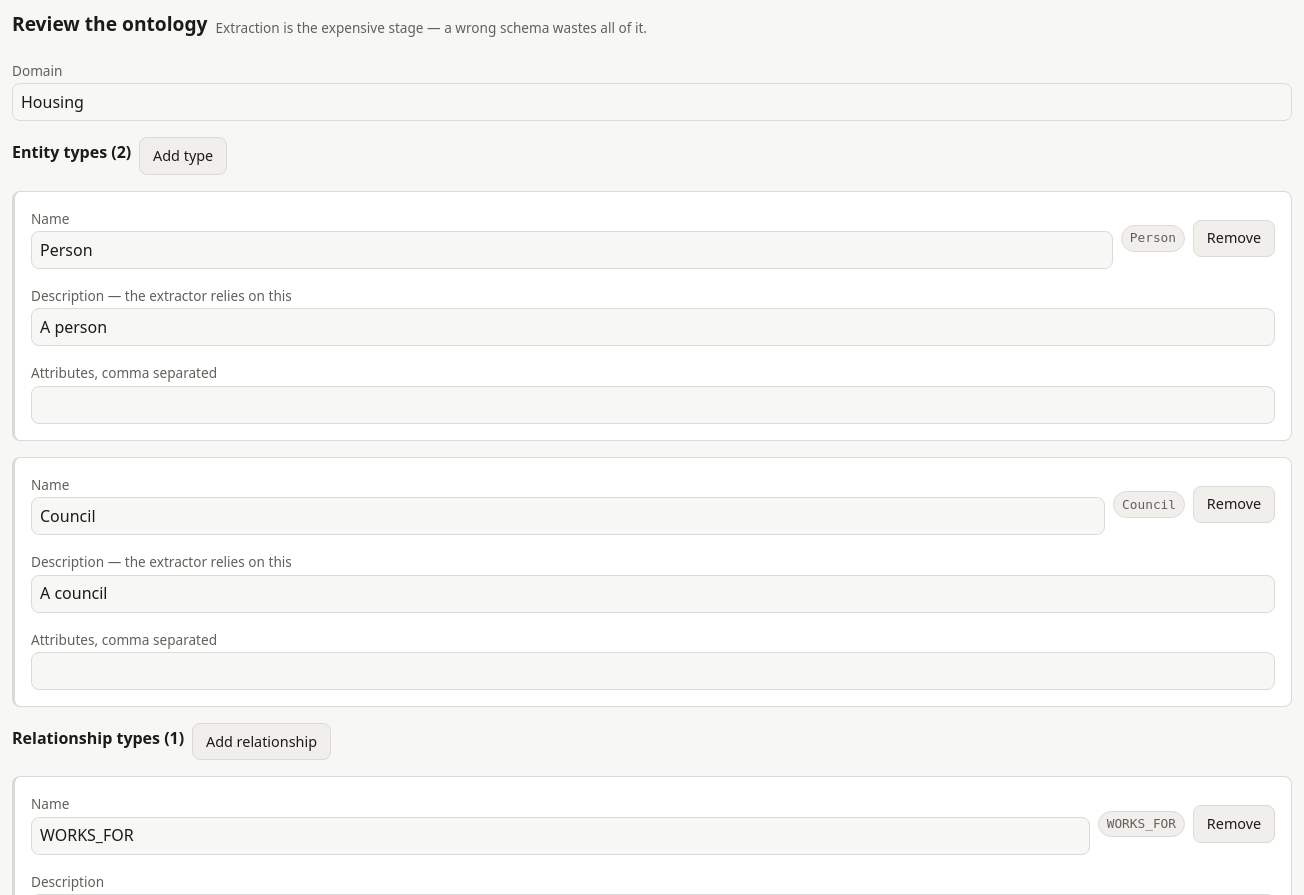
Test case: OntologyEditor › says plainly when a name produces nothing usable
The image size is (1304, 895).
Replace the text in the 1st field labelled "Name" with "3rd sector" at x=572, y=250, box [31,231,1113,269]
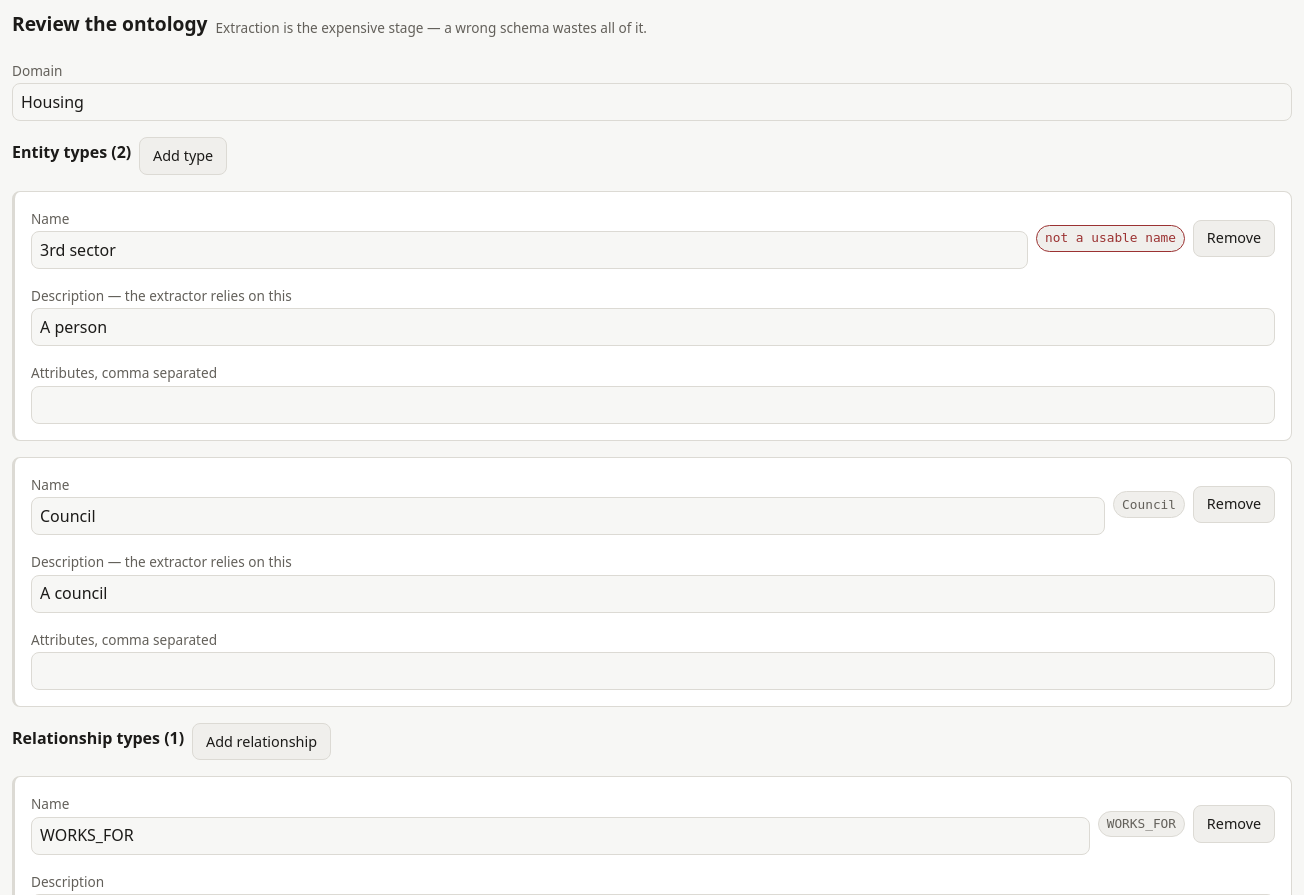
Expected: the text with class "identifier" reads "not a usable name", [1045,230,1176,245]
